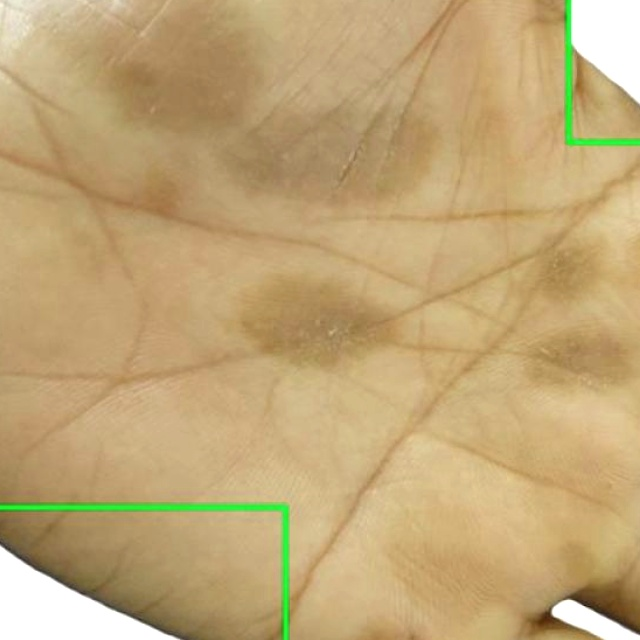Contact Dermatitis: (0, 507, 285, 639)
